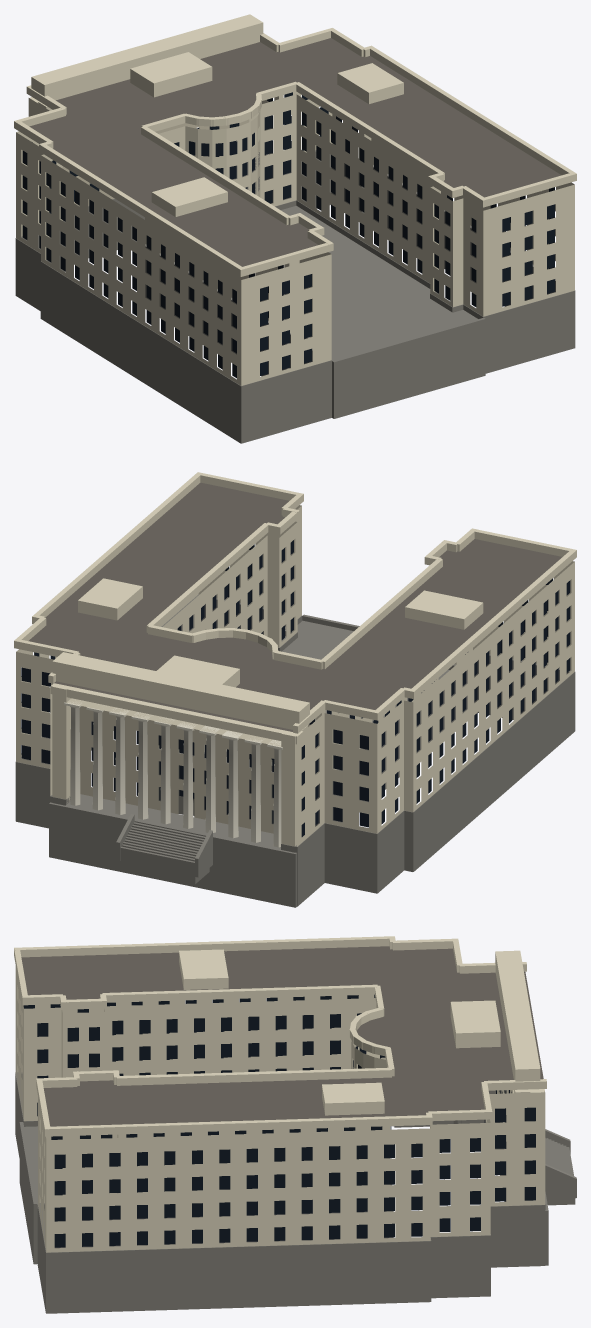
File: shtab_chf.lod.glb
3 views of the same model, one above another, from view 1: azimuth 30°, elevation 25°; view 2: azimuth 150°, elevation 25°; view 3: azimuth 270°, elevation 25° (orthographic). The views are drawn at different scales.
Parts seen in each view (by area): view 1: shtab_chf_wall, shtab_chf_stone, shtab_chf_roof, shtab_chf_glass; view 2: shtab_chf_wall, shtab_chf_stone, shtab_chf_roof, shtab_chf_wall2, shtab_chf_trim_s, shtab_chf_glass; view 3: shtab_chf_wall, shtab_chf_roof, shtab_chf_stone, shtab_chf_glass.
Boxes of the visible parts, bbox=[...] form: shtab_chf_wall: bbox=[14, 14, 576, 385]; shtab_chf_stone: bbox=[15, 150, 575, 443]; shtab_chf_roof: bbox=[29, 38, 561, 266]; shtab_chf_glass: bbox=[22, 92, 554, 378]; shtab_chf_wall: bbox=[14, 472, 576, 846]; shtab_chf_stone: bbox=[15, 594, 575, 907]; shtab_chf_roof: bbox=[28, 482, 562, 731]; shtab_chf_wall2: bbox=[66, 698, 281, 833]; shtab_chf_trim_s: bbox=[64, 700, 282, 847]; shtab_chf_glass: bbox=[21, 540, 570, 836]; shtab_chf_wall: bbox=[14, 936, 546, 1252]; shtab_chf_roof: bbox=[21, 946, 543, 1126]; shtab_chf_stone: bbox=[15, 1068, 576, 1313]; shtab_chf_glass: bbox=[23, 994, 535, 1247].
Bounding box in the file's own units: 61.16 × 29.1 × 75.32.
